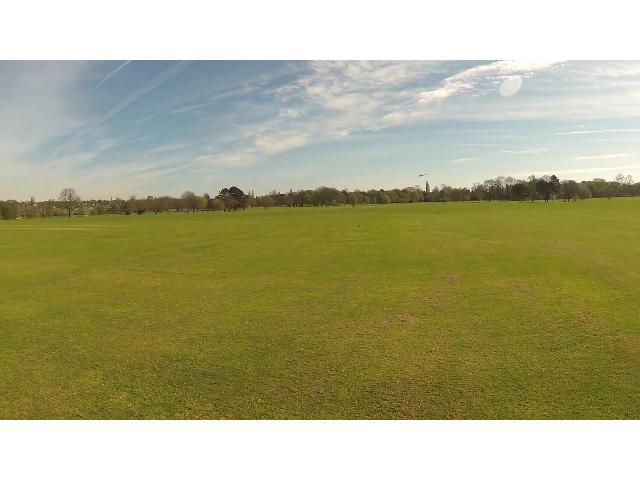Anti-Drone: (414, 172, 430, 178)
